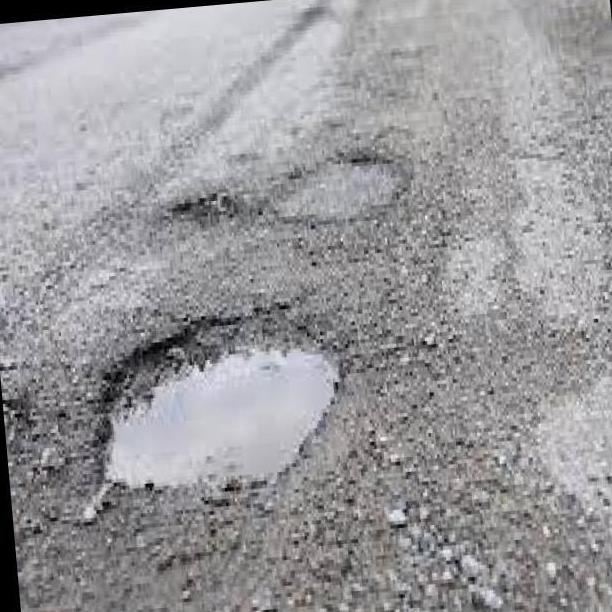pothole: (85, 318, 336, 501), (264, 157, 409, 232), (174, 192, 237, 235)
